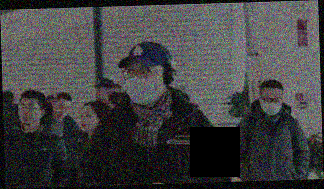with_mask: (123, 61, 164, 106), (262, 94, 284, 116)
without_mask: (17, 102, 39, 125), (79, 108, 99, 132), (52, 103, 71, 122)
